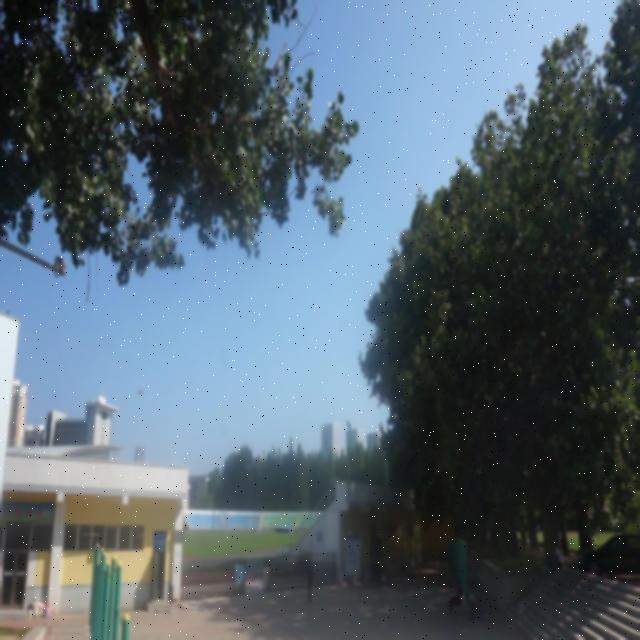UAV: (136, 389, 144, 395)
